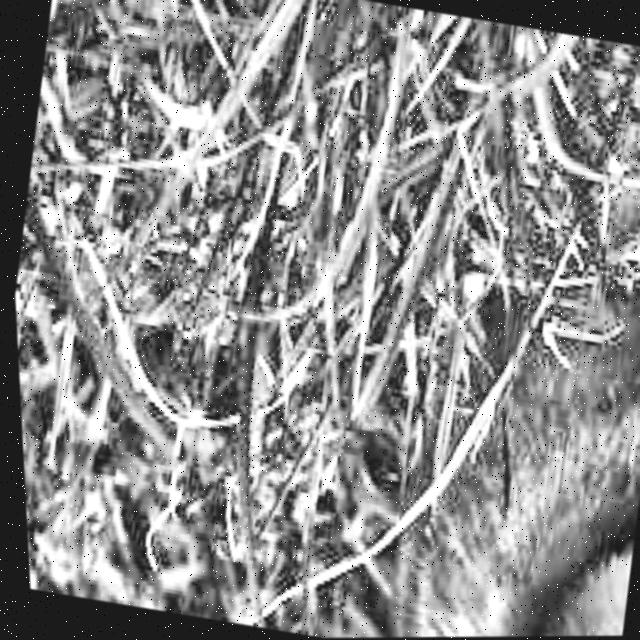rabbit: (336, 250, 640, 638)
